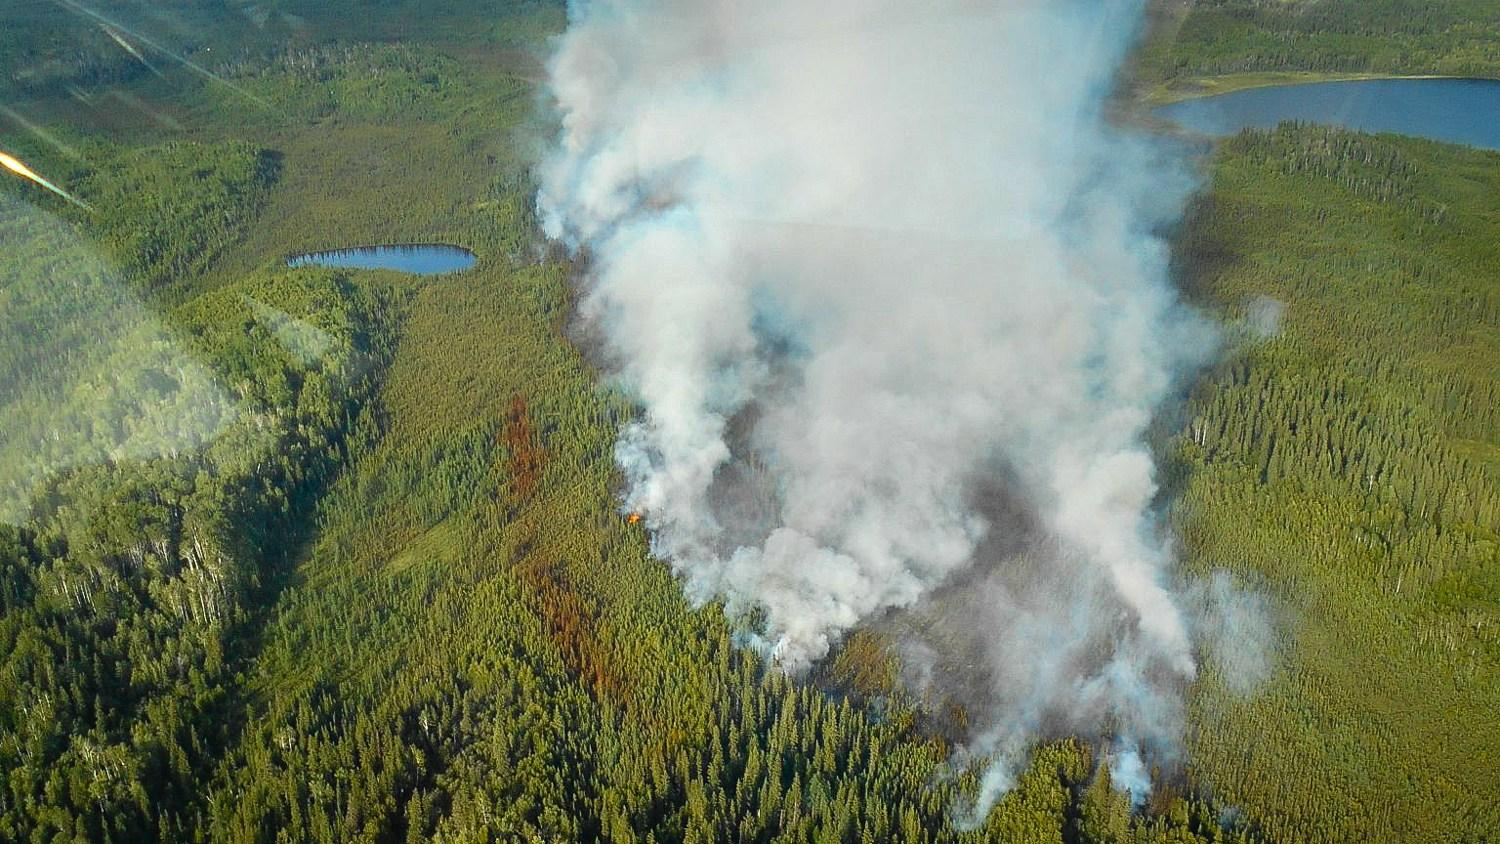smoke: (697, 2, 1047, 691), (1000, 129, 1217, 688), (561, 3, 744, 614), (955, 714, 1025, 838)
